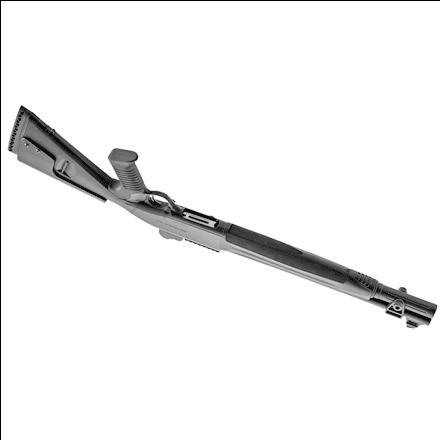gun: (4, 98, 439, 332)
